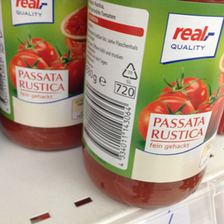tomato_sauce: (80, 1, 224, 211), (1, 1, 87, 151)
